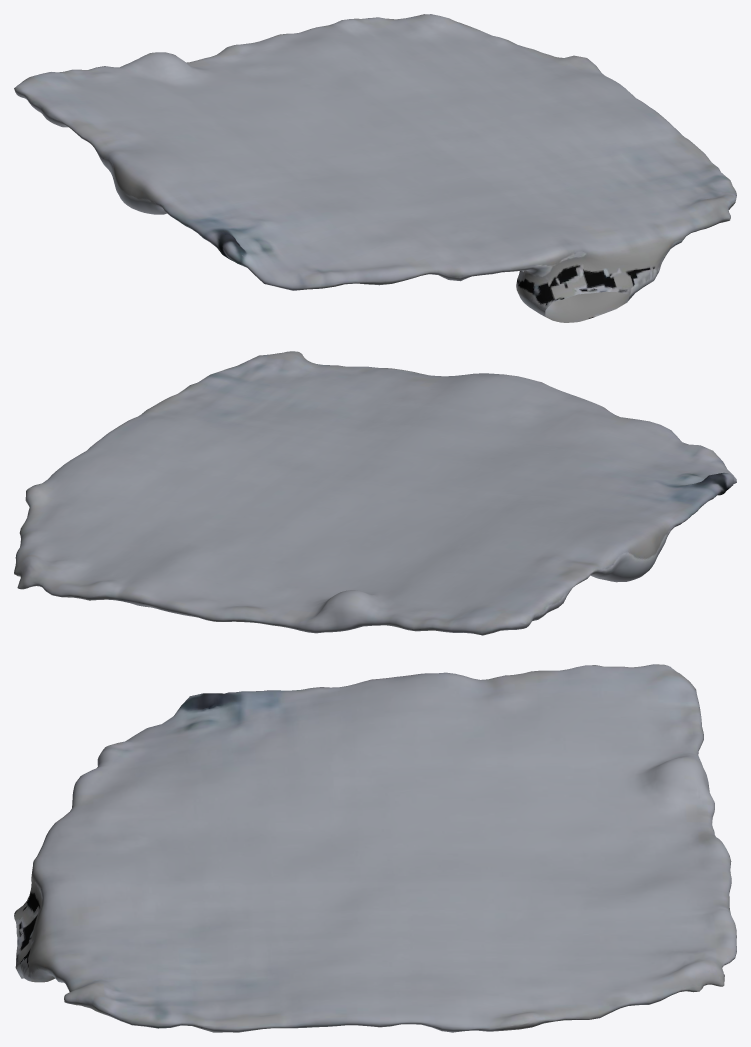
Rendered from e8e3a278a33f_the_bottom_of_the_s.obj.
3 renders of one model, top to bottom at view 1: azimuth 30°, elevation 25°; view 2: azimuth 150°, elevation 25°; view 3: azimuth 270°, elevation 25°, orthographic. The views are drawn at different scales.
Visible parts, largest first — view 1: mesh; view 2: mesh; view 3: mesh.
Boxes of the visible parts, x1,y1,x2,y2 form: mesh: (14, 14, 736, 322); mesh: (14, 351, 736, 635); mesh: (14, 664, 736, 1032).
Bounding box in the file's own units: 0.9744 × 0.1984 × 0.9962.
1 material, 1 textured.
